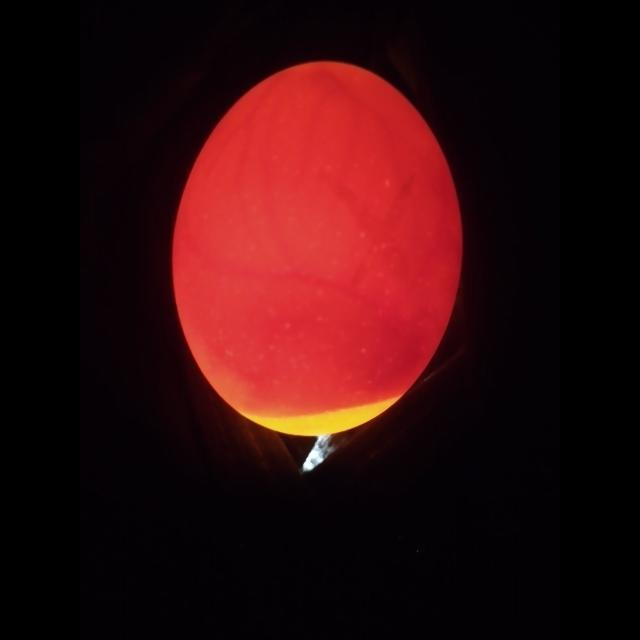Fertile: (168, 52, 466, 436)
